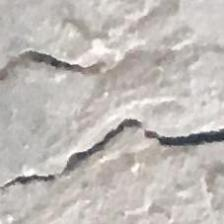Crack: (0, 41, 224, 218)
